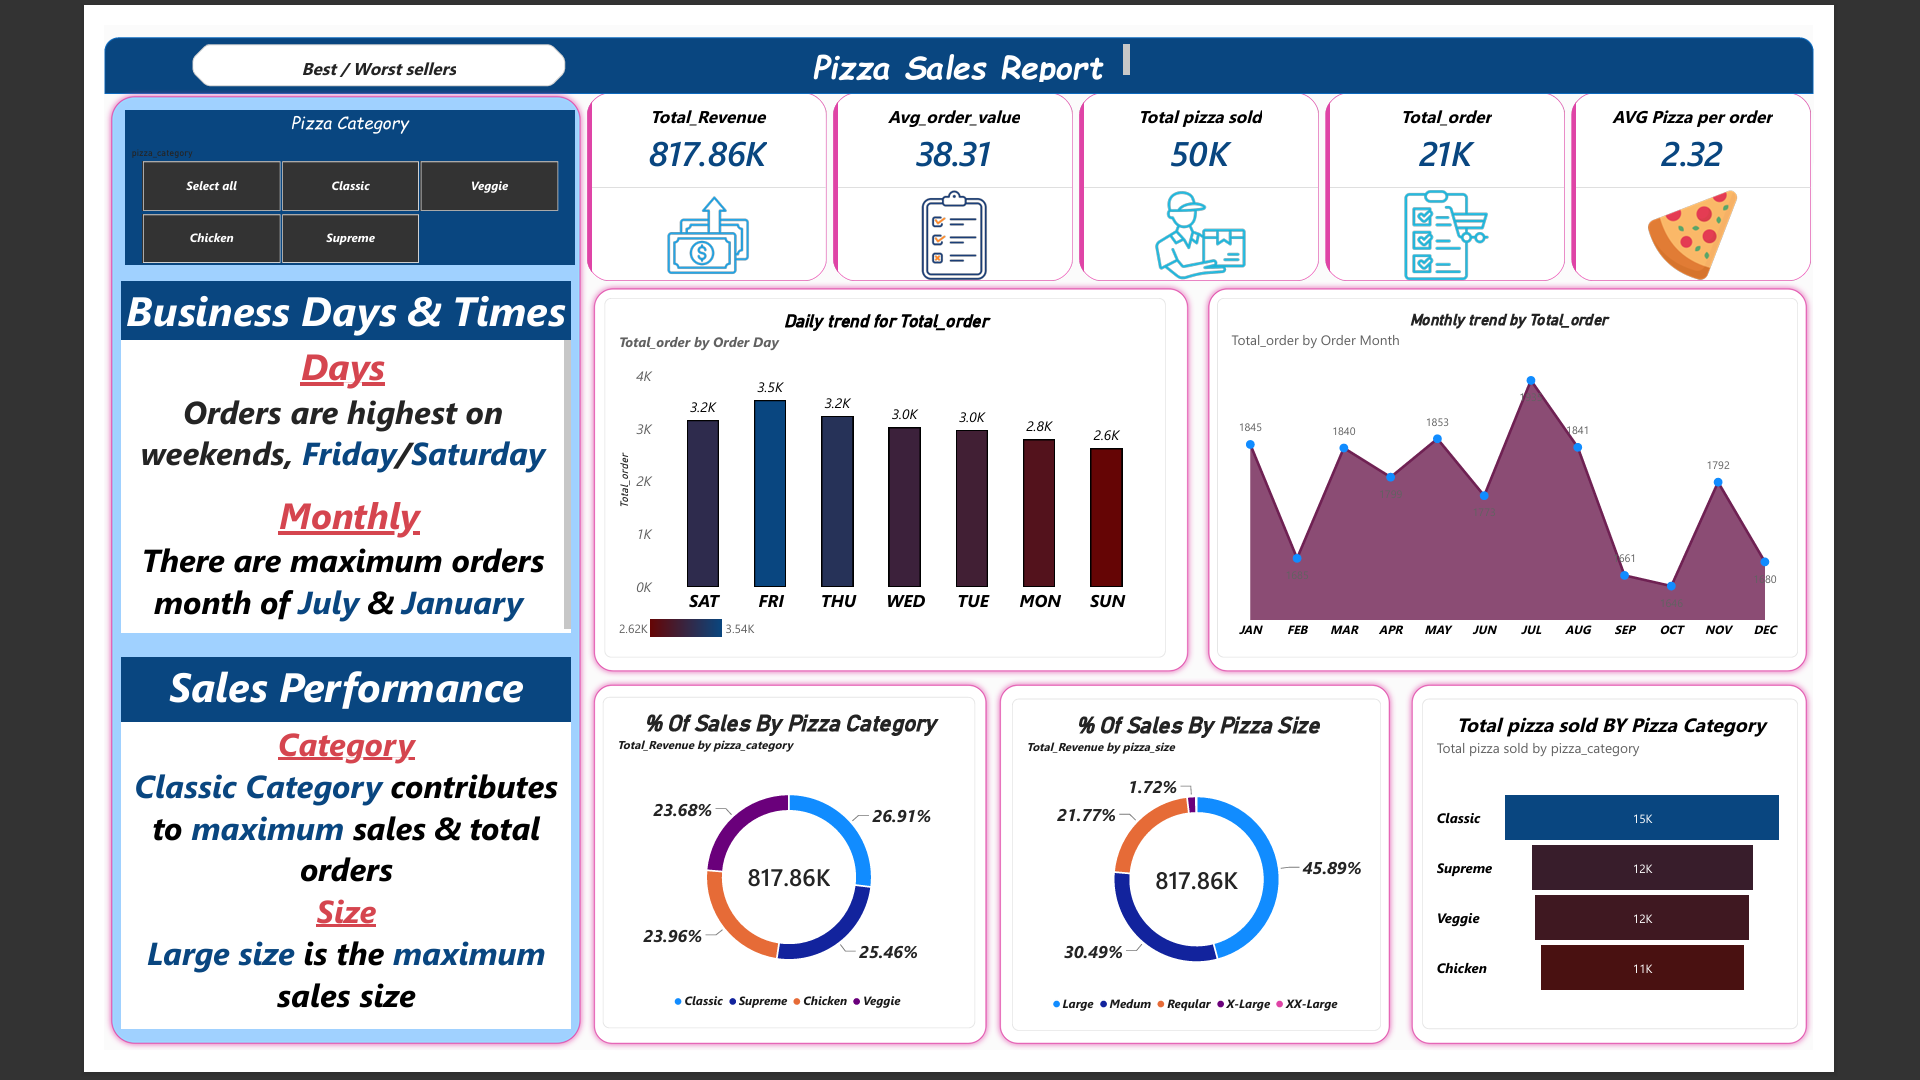

The page's visual inventory and layout, read from the dashboard file:
{"tool":"powerbi","page":{"name":"Pizza Sales","canvas":[2000,1200],"ordinal":0},"visuals":[{"type":"shape","box":[33.7,99.2,506,91.3],"z":0},{"type":"cardVisual","fields":{"Data":["pizza_saless.Total_Revenue","pizza_saless.Avg_order_value","pizza_saless.Total pizza sold","pizza_saless.Total_order","pizza_saless.AVG Pizza per order"]},"box":[565.5,79.4,1434.5,220.2],"z":1000},{"type":"shape","box":[0,13.9,2000.3,65.8],"z":2000},{"type":"textbox","box":[803.6,21.8,396.8,43.7],"z":3000},{"type":"shape","box":[565.5,299.6,710.3,464.3],"z":5000},{"type":"columnChart","title":"Daily trend for Total_order","fields":{"Category":["pizza_saless.Order Day"],"Y":["pizza_saless.Total_order"]},"box":[585.3,319.4,656.7,420.6],"z":6000},{"type":"shape","box":[1283.7,299.6,716.3,464.3],"z":7000},{"type":"areaChart","title":"Monthly trend by Total_order","fields":{"Category":["pizza_saless.Order Month"],"Y":["pizza_saless.Total_order"]},"box":[1301.6,319.4,680.6,420.6],"z":8000},{"type":"shape","box":[565.5,763.9,474.2,436.5],"z":9000},{"type":"shape","box":[1521.8,763.9,478.2,436.5],"z":10000},{"type":"shape","box":[1039.7,763.9,472.2,436.5],"z":11000},{"type":"donutChart","title":"% Of Sales By Pizza Category","fields":{"Category":["pizza_saless.pizza_category"],"Y":["pizza_saless.Total_Revenue"]},"box":[583.3,785.7,436,388],"z":12000},{"type":"donutChart","title":"% Of Sales By Pizza Size","fields":{"Category":["pizza_saless.pizza_size"],"Y":["pizza_saless.Total_Revenue"]},"box":[1061.5,787.7,432.5,388.9],"z":13000},{"type":"funnel","title":"Total pizza sold BY Pizza Category","fields":{"Category":["pizza_saless.pizza_category"],"Y":["pizza_saless.Total pizza sold"]},"box":[1541.7,787.7,440.5,386.9],"z":14000},{"type":"shape","box":[0,75.4,565.5,1125],"z":15000},{"type":"textbox","box":[19.8,299.6,525.8,69.4],"z":16000},{"type":"textbox","box":[19.8,369,525.8,343.3],"z":17000},{"type":"textbox","box":[19.8,815.5,525.8,359.1],"z":18000},{"type":"textbox","box":[19.8,740.1,525.8,75.4],"z":19000},{"type":"slicer","title":"Pizza Category","fields":{"Values":["pizza_saless.pizza_category"]},"box":[23.8,99.2,525.8,180.6],"z":20000},{"type":"pageNavigator","box":[103.2,21.8,436.5,49.6],"z":20001}]}

Visuals, with their boxes on the page's 2000x1200 design canvas (x1, y1, x2, y2). These are canvas units, not pixel positions in the 1920x1080 screenshot, which may show the page scaled, cropped or inside an application window:
shape: region(34, 99, 540, 190)
cardVisual - pizza_saless.Total_Revenue x pizza_saless.Avg_order_value: region(566, 79, 2000, 300)
shape: region(0, 14, 2000, 80)
textbox: region(804, 22, 1200, 66)
shape: region(566, 300, 1276, 764)
"Daily trend for Total_order" columnChart: region(585, 319, 1242, 740)
shape: region(1284, 300, 2000, 764)
"Monthly trend by Total_order" areaChart: region(1302, 319, 1982, 740)
shape: region(566, 764, 1040, 1200)
shape: region(1522, 764, 2000, 1200)
shape: region(1040, 764, 1512, 1200)
"% Of Sales By Pizza Category" donutChart: region(583, 786, 1019, 1174)
"% Of Sales By Pizza Size" donutChart: region(1062, 788, 1494, 1177)
"Total pizza sold BY Pizza Category" funnel: region(1542, 788, 1982, 1175)
shape: region(0, 75, 566, 1200)
textbox: region(20, 300, 546, 369)
textbox: region(20, 369, 546, 712)
textbox: region(20, 816, 546, 1175)
textbox: region(20, 740, 546, 816)
"Pizza Category" slicer: region(24, 99, 550, 280)
pageNavigator: region(103, 22, 540, 71)
